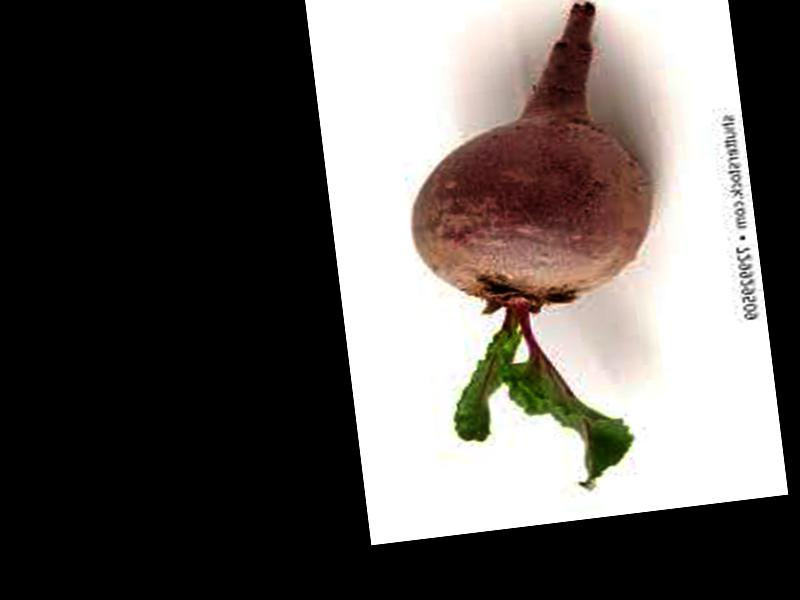Beet: (389, 0, 683, 507)
